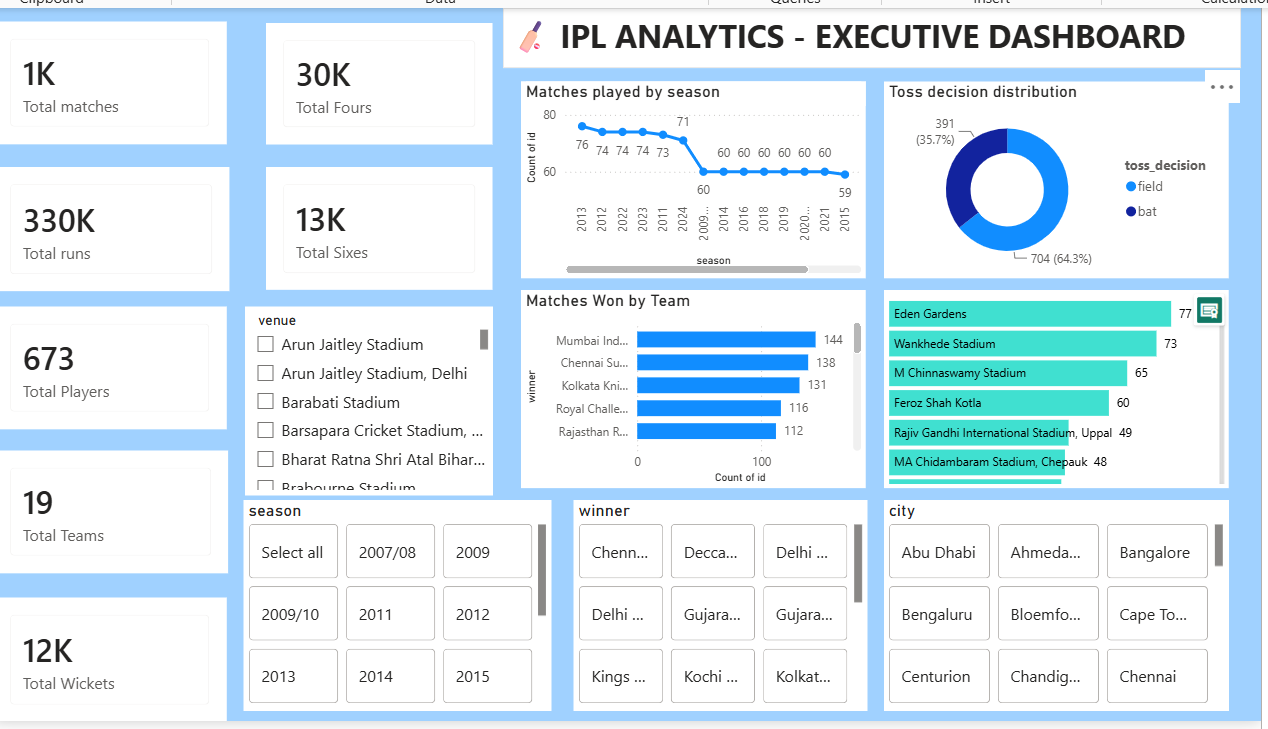

The dashboard page shown, as its layout file describes it:
{"tool":"powerbi","page":{"name":"executive dashboard","canvas":[1280,720],"ordinal":0},"visuals":[{"type":"cardVisual","fields":{"Data":["matches.Total matches"]},"box":[0,12.9,235.9,123.7],"z":0},{"type":"cardVisual","fields":{"Data":["matches.Total Teams"]},"box":[0,447.3,237.3,123.7],"z":1000},{"type":"cardVisual","fields":{"Data":["deliveries.Total Players"]},"box":[0,302,235.9,123.7],"z":2000},{"type":"cardVisual","fields":{"Data":["deliveries.Total runs"]},"box":[0,161.1,238.7,125.1],"z":3000},{"type":"cardVisual","fields":{"Data":["deliveries.Total Wickets"]},"box":[0,595.4,235.9,125.1],"z":4000},{"type":"cardVisual","fields":{"Data":["deliveries.Total Fours"]},"box":[275.6,15.1,228.6,122.7],"z":5000},{"type":"cardVisual","fields":{"Data":["deliveries.Total Sixes"]},"box":[275.6,160.5,228.6,124.2],"z":6000},{"type":"lineChart","title":"Matches played by season","fields":{"Category":["matches.season"],"Y":["CountNonNull(matches.id)"]},"box":[533.5,74.8,348,198.5],"z":7000},{"type":"donutChart","title":"Toss decision distribution","fields":{"Category":["matches.toss_decision"],"Y":["CountNonNull(matches.id)"]},"box":[898.8,74.8,348,198.5],"z":8000},{"type":"clusteredBarChart","title":"Matches Won by Team","fields":{"Category":["matches.winner"],"Y":["CountNonNull(matches.id)"]},"box":[533.5,284.7,348,199.9],"z":9000},{"type":"horizontalBarChartPBICraft","fields":{"category":["matches.venue"],"measure":["CountNonNull(matches.id)"]},"box":[898.8,284.7,348,199.9],"z":10000},{"type":"advancedSlicerVisual","fields":{"Values":["matches.season"]},"box":[252.9,496.7,310.4,212],"z":11000},{"type":"advancedSlicerVisual","fields":{"Values":["matches.winner"]},"box":[586,496.7,296.8,212],"z":12000},{"type":"slicer","fields":{"Values":["matches.venue"]},"box":[254.5,302,250.2,189.8],"z":13000},{"type":"advancedSlicerVisual","fields":{"Values":["matches.city"]},"box":[899,497,347,212],"z":14000},{"type":"textbox","box":[514.8,0,745,60.6],"z":15000}]}

Visuals, with their boxes on the page's 1280x720 design canvas (x1, y1, x2, y2). These are canvas units, not pixel positions in the 1268x729 screenshot, which may show the page scaled, cropped or inside an application window:
cardVisual - matches.Total matches: bbox=[0, 13, 236, 137]
cardVisual - matches.Total Teams: bbox=[0, 447, 237, 571]
cardVisual - deliveries.Total Players: bbox=[0, 302, 236, 426]
cardVisual - deliveries.Total runs: bbox=[0, 161, 239, 286]
cardVisual - deliveries.Total Wickets: bbox=[0, 595, 236, 720]
cardVisual - deliveries.Total Fours: bbox=[276, 15, 504, 138]
cardVisual - deliveries.Total Sixes: bbox=[276, 160, 504, 285]
"Matches played by season" lineChart: bbox=[534, 75, 882, 273]
"Toss decision distribution" donutChart: bbox=[899, 75, 1247, 273]
"Matches Won by Team" clusteredBarChart: bbox=[534, 285, 882, 485]
horizontalBarChartPBICraft - matches.venue x CountNonNull(matches.id): bbox=[899, 285, 1247, 485]
advancedSlicerVisual - matches.season: bbox=[253, 497, 563, 709]
advancedSlicerVisual - matches.winner: bbox=[586, 497, 883, 709]
slicer - matches.venue: bbox=[254, 302, 505, 492]
advancedSlicerVisual - matches.city: bbox=[899, 497, 1246, 709]
textbox: bbox=[515, 0, 1260, 61]
